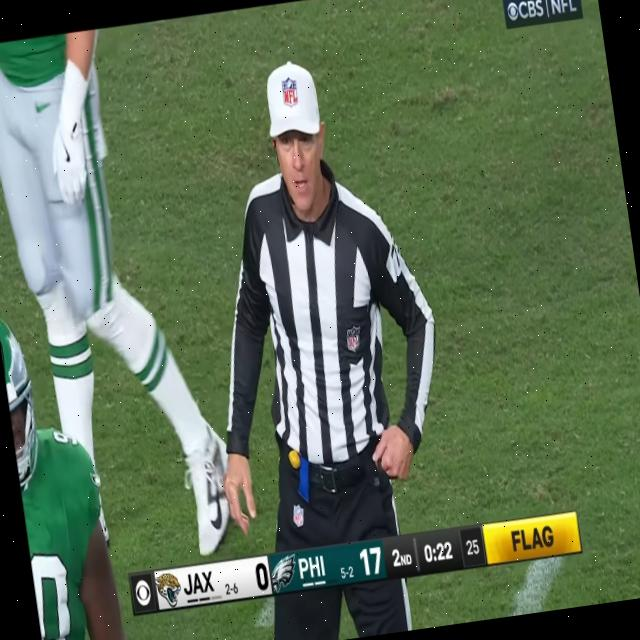Player: (0, 308, 124, 640)
Referee: (212, 52, 424, 550)
